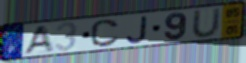3: (54, 20, 82, 53)
9: (163, 11, 189, 42)
A: (21, 24, 55, 56)
C: (90, 19, 121, 49)
J: (125, 14, 150, 44)
U: (191, 7, 222, 39)
